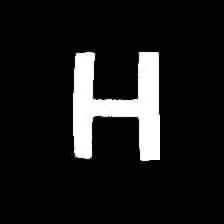LTR_H: (61, 37, 166, 168)
